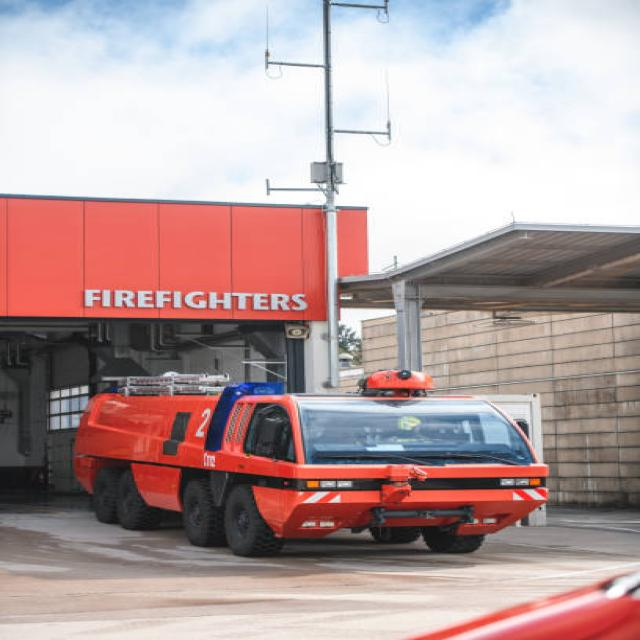emergency: (73, 370, 548, 556)
